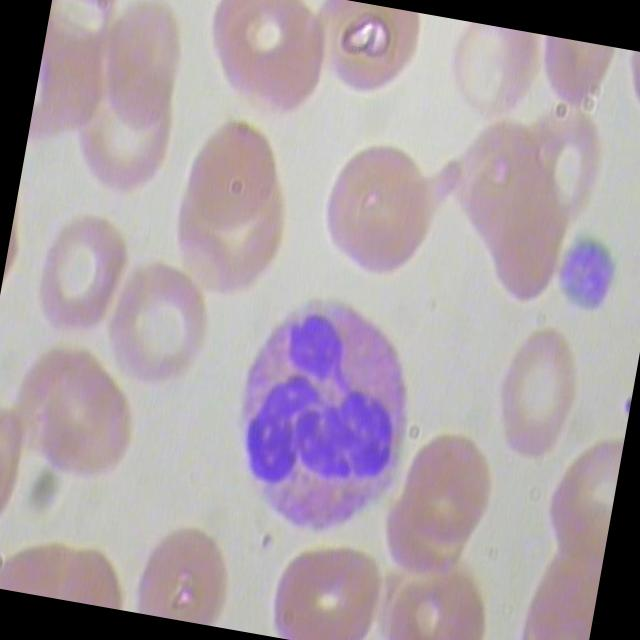Platelets: (550, 229, 634, 324)
RBC: (317, 133, 462, 296), (98, 252, 225, 408), (195, 0, 338, 134), (30, 354, 154, 499), (481, 318, 592, 475), (28, 209, 140, 359), (176, 113, 290, 250), (302, 0, 441, 111), (394, 430, 507, 556), (266, 528, 393, 640), (92, 0, 195, 137), (130, 521, 246, 629), (442, 20, 548, 130), (380, 565, 497, 640), (532, 36, 624, 123)
WBC: (214, 273, 436, 552)
